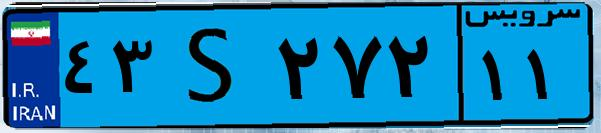1: (475, 38, 525, 113), (525, 38, 570, 115)
2: (270, 28, 330, 110), (385, 28, 445, 110)
3: (110, 28, 158, 98)
4: (57, 26, 110, 100)
7: (330, 28, 385, 110)
S: (158, 12, 270, 120)
